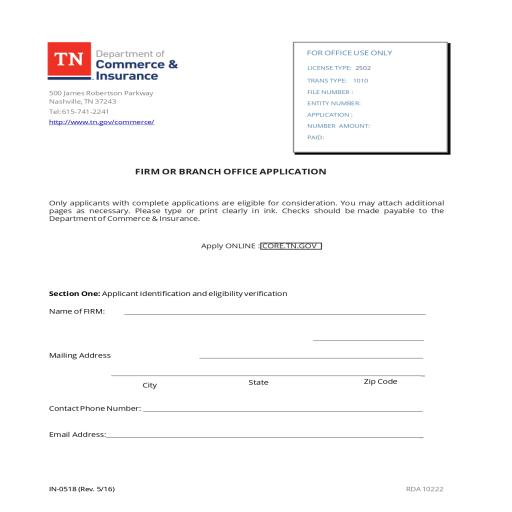email: (46, 348, 115, 362), (48, 428, 107, 440)
free_text: (46, 304, 110, 318)
number: (47, 400, 141, 416)
